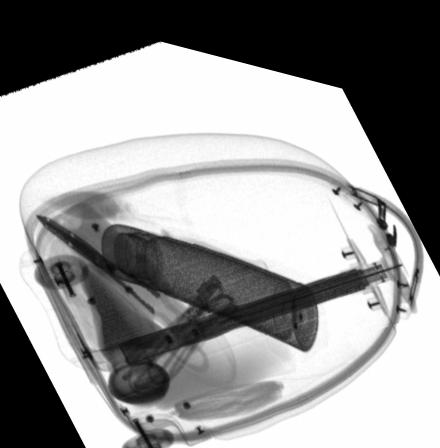Scissors: (35, 213, 213, 366)
